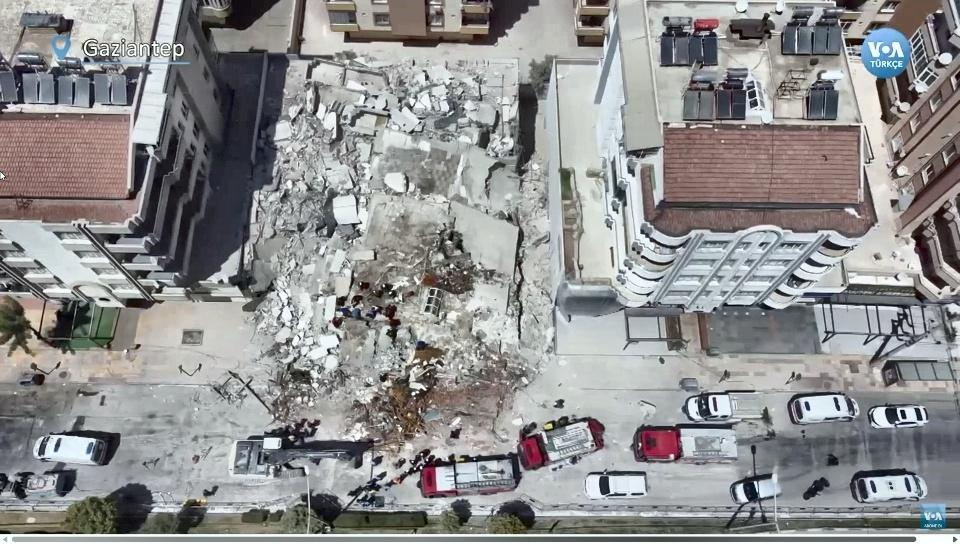kapali: (205, 385, 585, 516)
